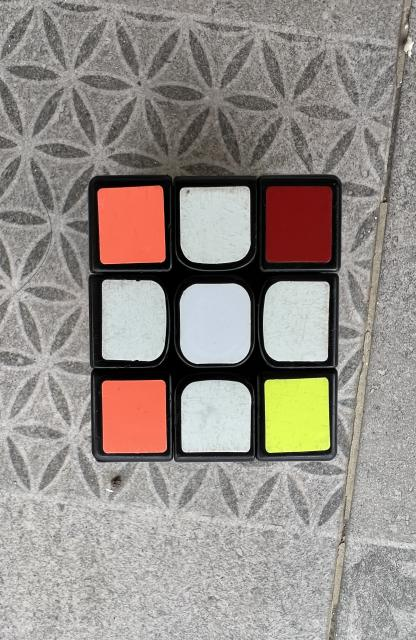Orange: (98, 185, 166, 264), (102, 380, 167, 454)
Red: (265, 186, 333, 262)
White: (180, 284, 251, 364), (180, 186, 250, 264), (102, 279, 167, 361), (263, 281, 329, 361), (181, 380, 251, 452)
Yellow: (264, 378, 330, 452)
